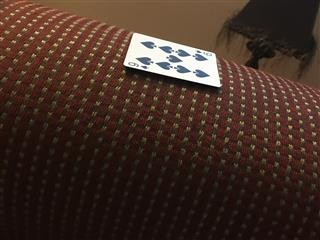NineOfSpades: (121, 31, 221, 88)
